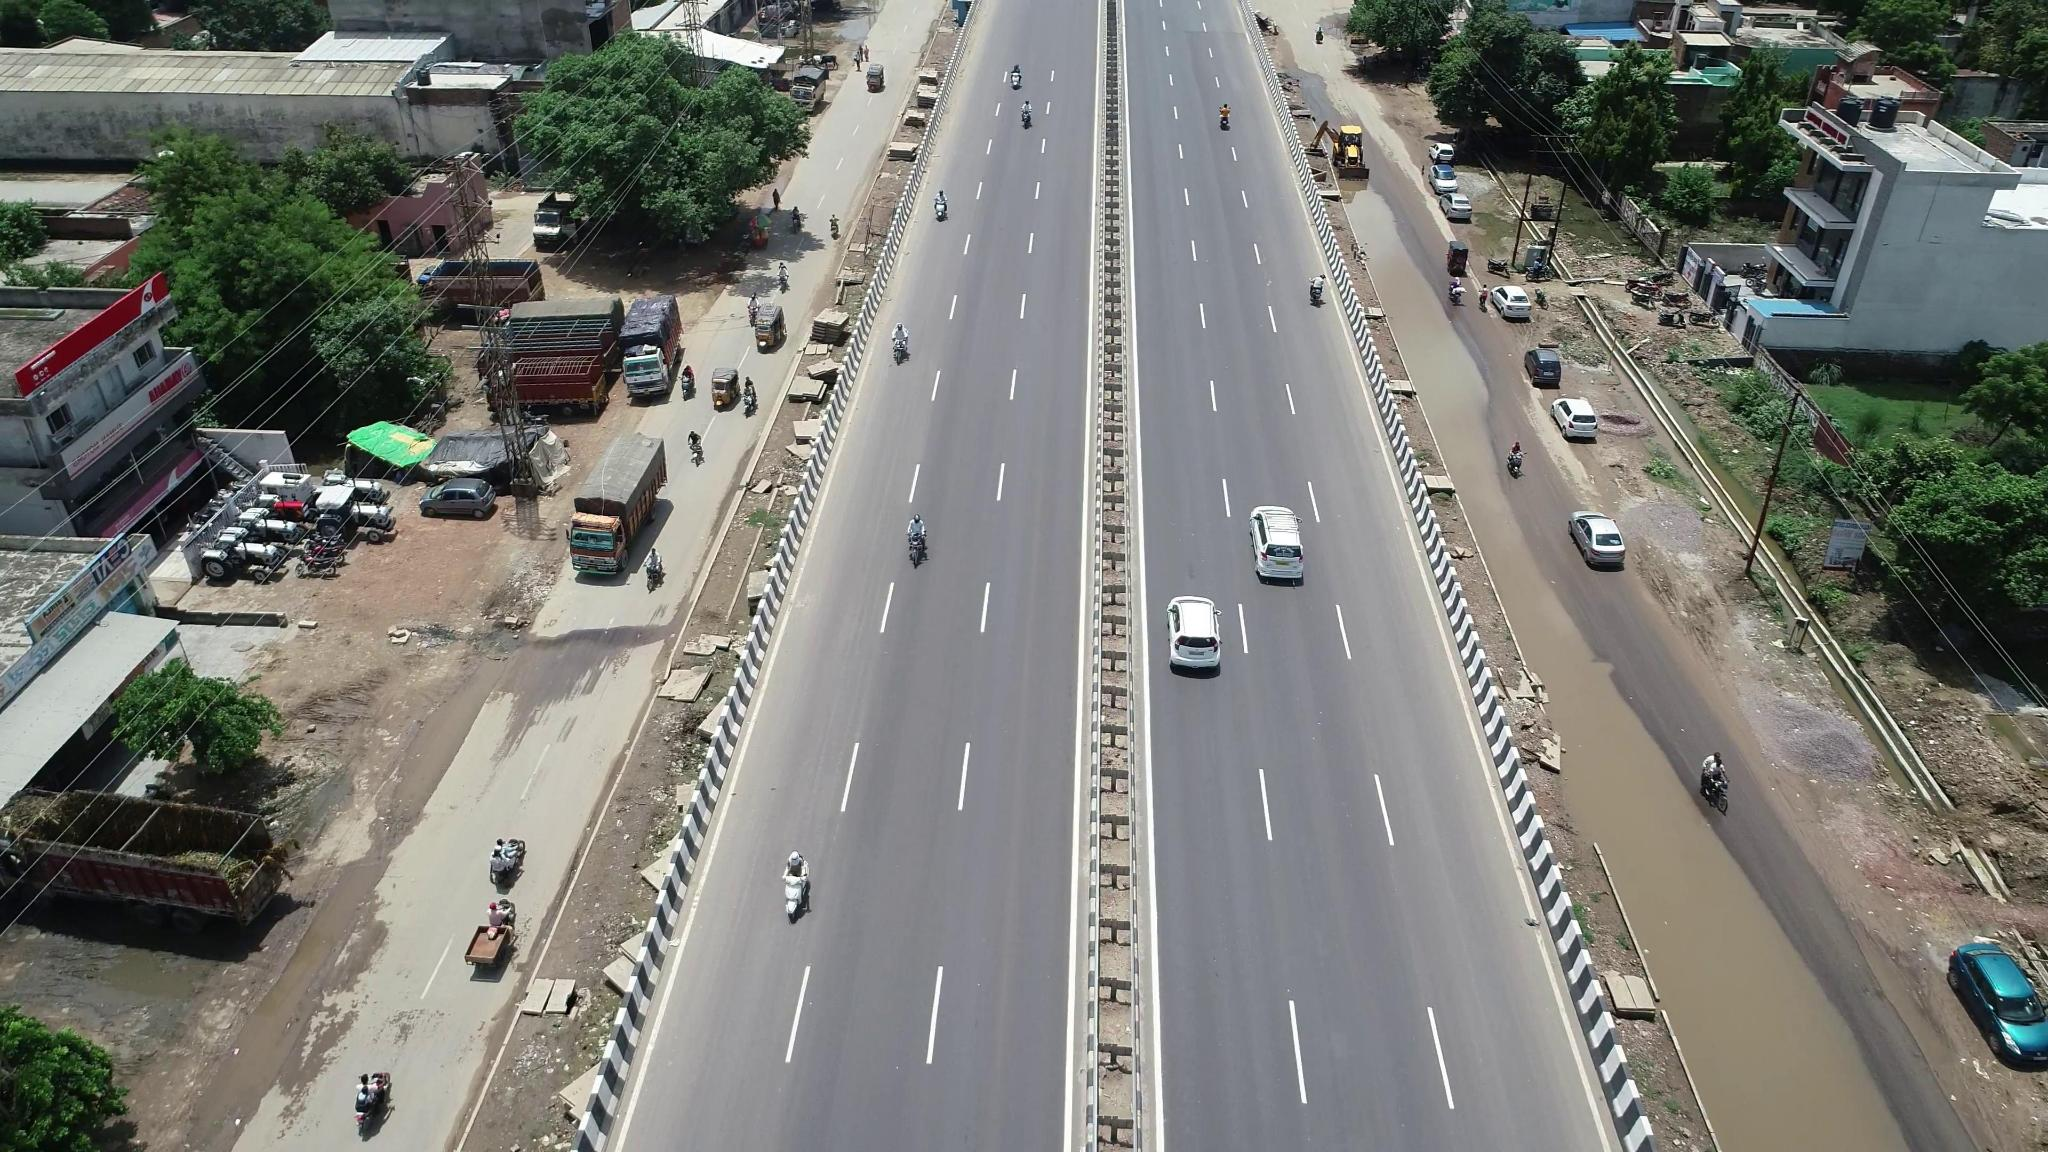Waterlogging: (1620, 800, 1883, 1139)
